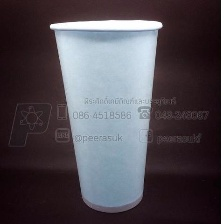paper_cup: (44, 15, 167, 216)
